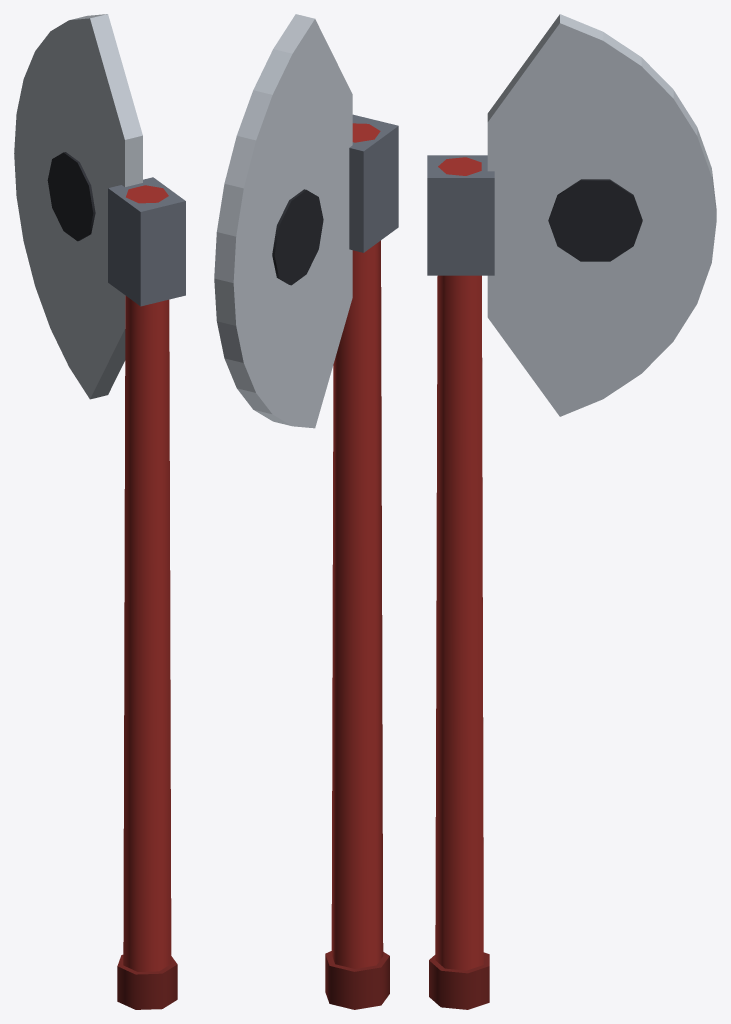
File: tool_ringer.glb
3 views of the same model, side by side, from view 1: azimuth 30°, elevation 25°; view 2: azimuth 150°, elevation 25°; view 3: azimuth 270°, elevation 25° (orthographic). The views are drawn at different scales.
Visible parts, largest first — view 1: _MeshInstance3D_907, _MeshInstance3D_909, _MeshInstance3D_911, _MeshInstance3D_910, _MeshInstance3D_908; view 2: _MeshInstance3D_909, _MeshInstance3D_907, _MeshInstance3D_911, _MeshInstance3D_910, _MeshInstance3D_908; view 3: _MeshInstance3D_909, _MeshInstance3D_907, _MeshInstance3D_911, _MeshInstance3D_910, _MeshInstance3D_908.
Boxes of the visible parts, box(x1,y1,x2,y2) form: _MeshInstance3D_907: box(123, 185, 171, 971); _MeshInstance3D_909: box(14, 14, 142, 399); _MeshInstance3D_911: box(108, 177, 185, 306); _MeshInstance3D_910: box(47, 152, 95, 241); _MeshInstance3D_908: box(117, 954, 177, 1009); _MeshInstance3D_909: box(214, 14, 352, 428); _MeshInstance3D_907: box(331, 123, 383, 968); _MeshInstance3D_911: box(349, 114, 398, 252); _MeshInstance3D_910: box(272, 189, 323, 285); _MeshInstance3D_908: box(325, 951, 389, 1009); _MeshInstance3D_909: box(487, 14, 716, 416); _MeshInstance3D_907: box(435, 157, 483, 970); _MeshInstance3D_911: box(427, 155, 494, 275); _MeshInstance3D_910: box(548, 179, 642, 261); _MeshInstance3D_908: box(429, 952, 489, 1009).
Size of the model in its own units: 0.0463 by 0.8013 by 0.215.
